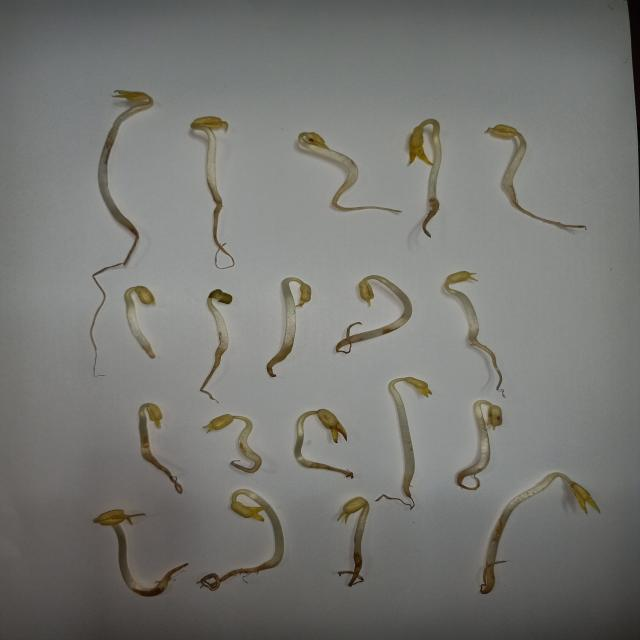leaf: (316, 409, 350, 445), (568, 483, 603, 516), (407, 126, 426, 162), (405, 377, 435, 397), (202, 414, 231, 434), (107, 88, 146, 102), (446, 269, 480, 285), (91, 510, 129, 524), (482, 124, 517, 139), (134, 285, 158, 305), (357, 282, 375, 308), (230, 501, 256, 519), (337, 496, 361, 515), (488, 405, 503, 429), (196, 117, 228, 127), (298, 284, 312, 304), (147, 405, 163, 421), (208, 290, 233, 300), (307, 133, 327, 145)
root: (196, 566, 284, 602), (468, 341, 514, 394), (206, 200, 237, 272), (513, 204, 589, 233), (89, 229, 139, 271), (330, 193, 405, 218), (198, 350, 227, 404), (381, 478, 422, 512), (420, 200, 445, 241), (264, 352, 298, 381), (158, 464, 184, 495), (318, 462, 358, 481), (162, 564, 184, 596), (229, 460, 263, 478), (337, 567, 366, 588), (453, 468, 478, 492), (333, 334, 349, 356), (474, 582, 500, 595), (141, 348, 157, 361)
stem: (486, 472, 570, 582), (101, 101, 138, 228), (350, 276, 412, 346), (232, 488, 286, 566), (292, 132, 361, 192), (106, 525, 161, 598), (187, 124, 234, 200), (385, 378, 415, 478), (438, 284, 482, 340), (420, 119, 450, 200), (274, 276, 299, 352), (120, 287, 149, 347), (505, 133, 528, 204), (232, 412, 263, 460), (471, 399, 490, 473), (138, 402, 158, 469), (294, 410, 316, 470), (204, 300, 230, 350), (356, 496, 368, 567)
